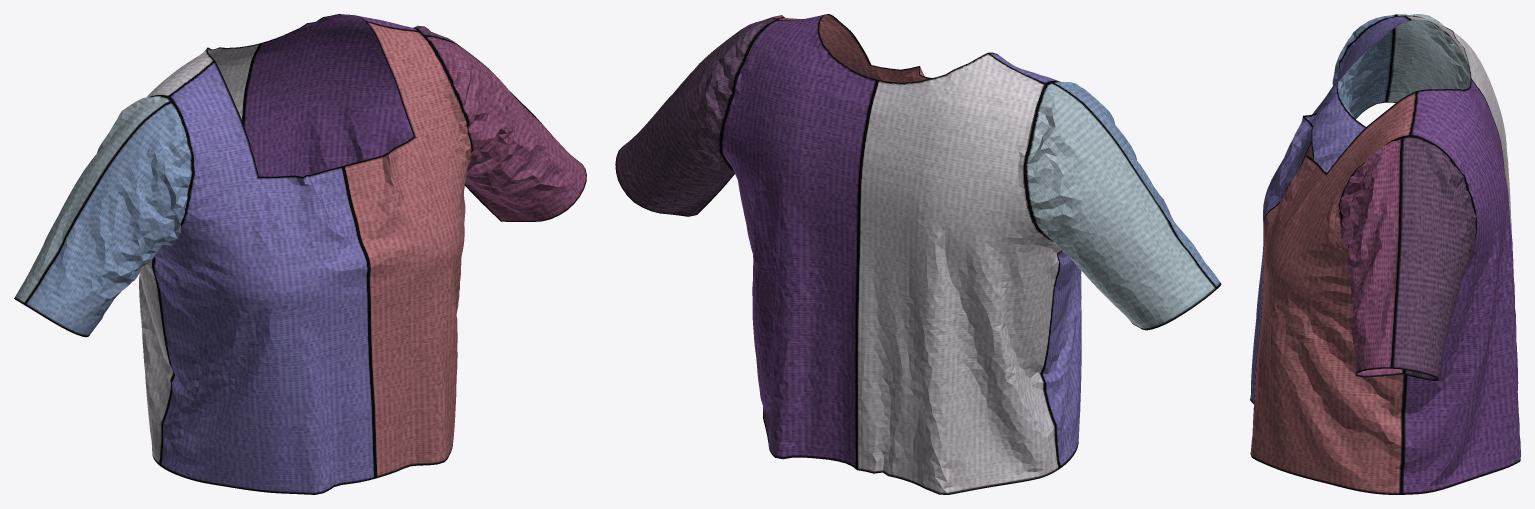
Rendered from valid_garment_upper_sim.obj.
The picture shows the model from 3 angles, left to right: view 1: azimuth 30°, elevation 25°; view 2: azimuth 150°, elevation 25°; view 3: azimuth 270°, elevation 25°; orthographic projection. The views are drawn at different scales.
Bounding box in the file's own units: 69.63 × 45.98 × 29.81.
Materials: 1 (1 with a texture image).
